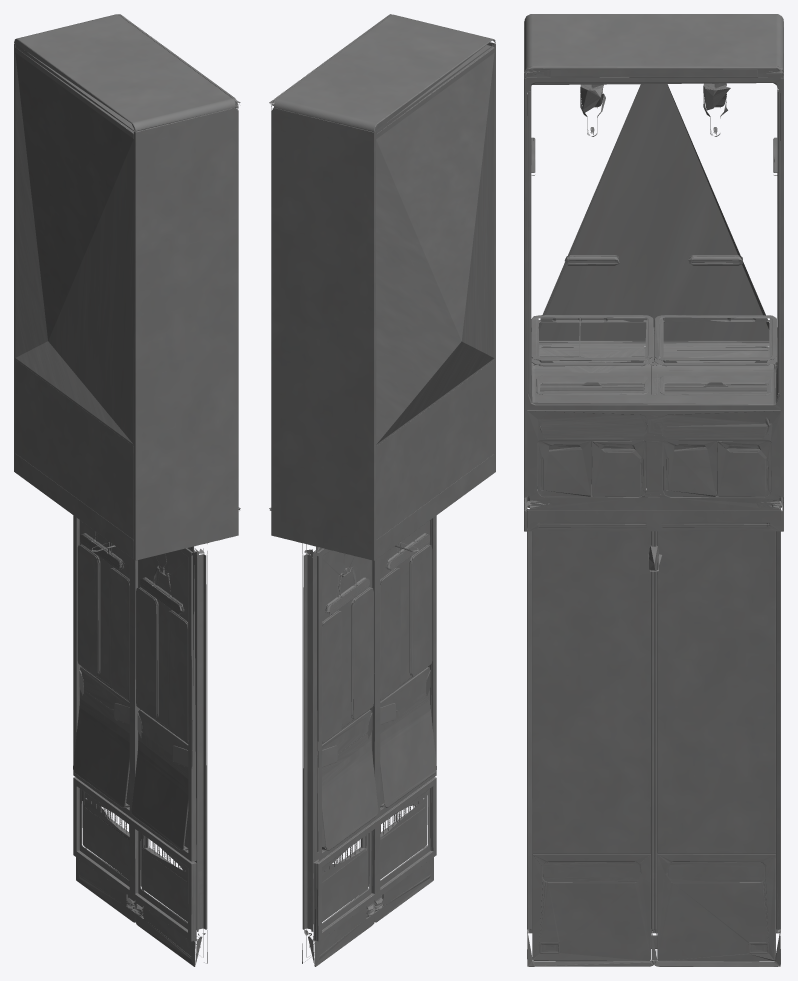
The model's file is purifier_clothes_a02.glb.
3 renders of one model, left to right at view 1: azimuth 30°, elevation 25°; view 2: azimuth 150°, elevation 25°; view 3: azimuth 270°, elevation 25°, orthographic. The views are drawn at different scales.
Parts seen in each view (by area): view 1: geometry_0; view 2: geometry_0; view 3: geometry_0.
Part boxes in pixels (x1,y1,x2,y2): geometry_0: (14, 14, 240, 966); geometry_0: (269, 14, 495, 966); geometry_0: (524, 14, 783, 966).
Size of the model in its own units: 0.0682 by 0.42 by 0.108.
Materials: 1 (1 with a texture image).
